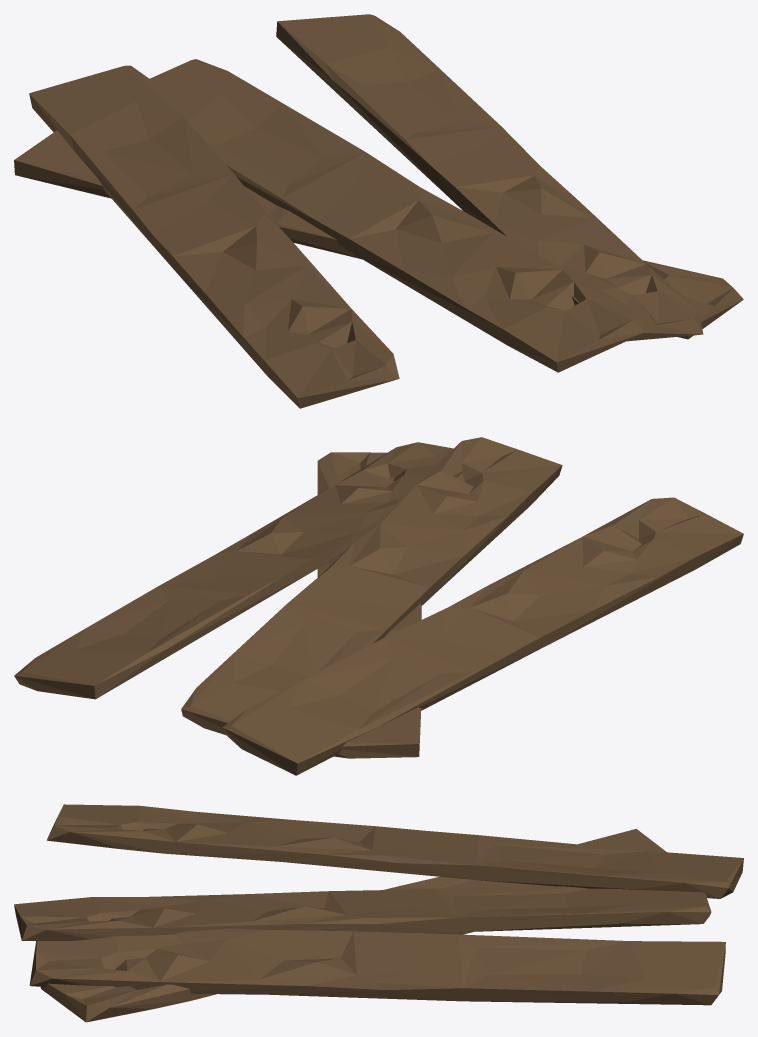
The model's file is SM_planks_layered.fbx.
The picture shows the model from 3 angles, top to bottom: view 1: azimuth 30°, elevation 25°; view 2: azimuth 150°, elevation 25°; view 3: azimuth 270°, elevation 25°; orthographic projection. The views are drawn at different scales.
Visible parts, largest first — view 1: planks_layered; view 2: planks_layered; view 3: planks_layered.
Part boxes in pixels (x1=…): planks_layered: x1=14, y1=14, x2=743, y2=408; planks_layered: x1=14, y1=437, x2=743, y2=775; planks_layered: x1=14, y1=804, x2=743, y2=1022.
Bounding box in the file's own units: 214 × 22.18 × 333.
